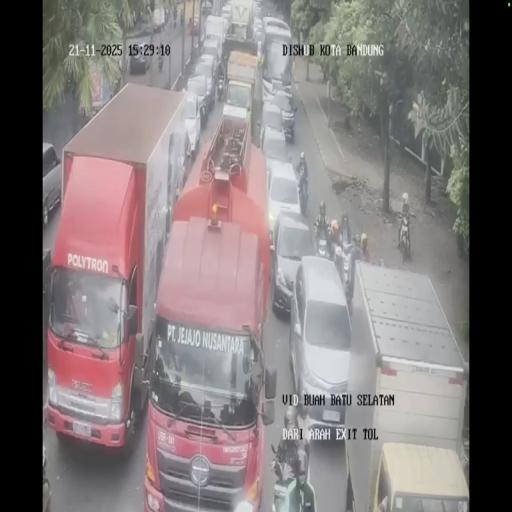car: (271, 209, 316, 318), (258, 100, 286, 152), (182, 93, 202, 152), (194, 52, 216, 102), (262, 16, 291, 51), (129, 41, 148, 74), (252, 16, 264, 48), (220, 2, 232, 29), (251, 0, 262, 18), (201, 0, 212, 16)
motorcycle: (397, 210, 412, 264), (313, 218, 330, 256), (332, 241, 346, 284)
truck: (46, 82, 196, 454), (336, 261, 468, 511), (202, 14, 226, 61), (182, 0, 202, 32)
